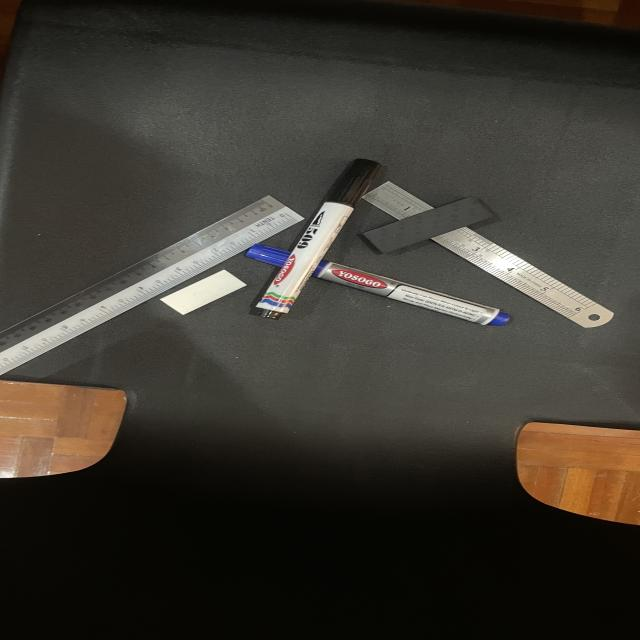eraser: (363, 197, 493, 253), (161, 270, 246, 315)
marker: (253, 159, 381, 319), (312, 260, 510, 326), (245, 244, 292, 273)
ruler: (0, 196, 304, 374), (431, 227, 613, 328), (367, 182, 435, 226)
